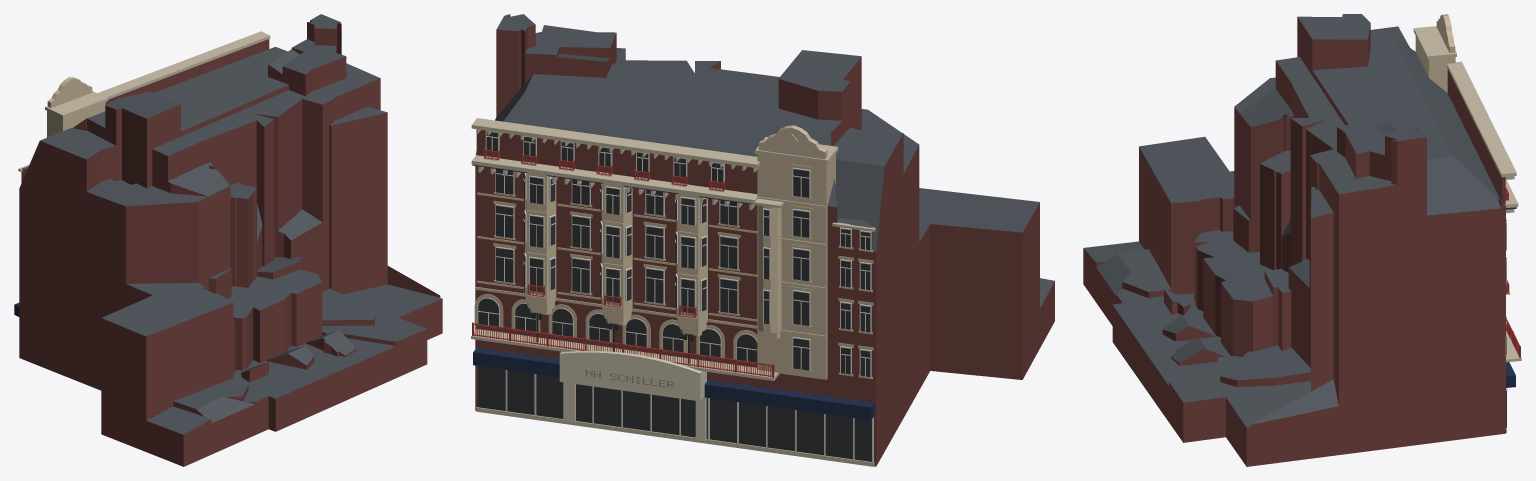
Rendered from schiller-rembrandtplein.glb.
3 renders of one model, left to right at view 1: azimuth 30°, elevation 25°; view 2: azimuth 150°, elevation 25°; view 3: azimuth 270°, elevation 25°, orthographic. The views are drawn at different scales.
Parts seen in each view (by area): view 1: schiller-rembrandtplein; view 2: schiller-rembrandtplein; view 3: schiller-rembrandtplein.
Boxes of the visible parts, <box> form: schiller-rembrandtplein: <box>14,14,442,466</box>; schiller-rembrandtplein: <box>471,14,1054,466</box>; schiller-rembrandtplein: <box>1083,14,1521,466</box>.
Bounding box in the file's own units: 40.54 × 29.21 × 37.84.
